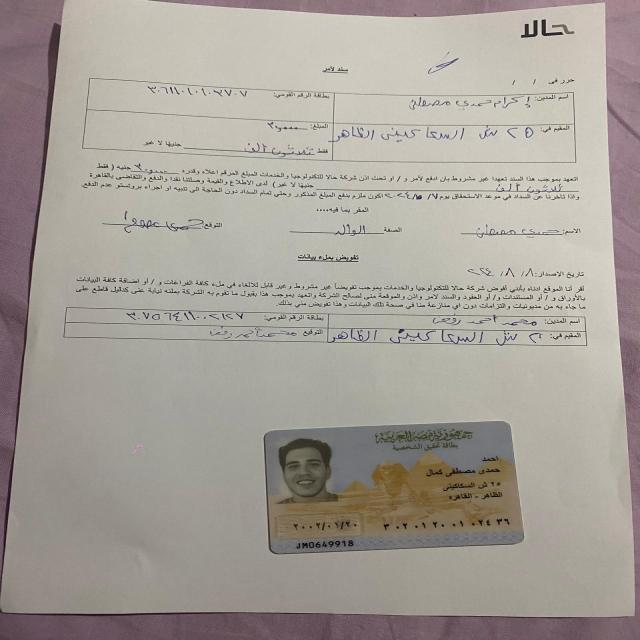id_card: (260, 416, 530, 558)
